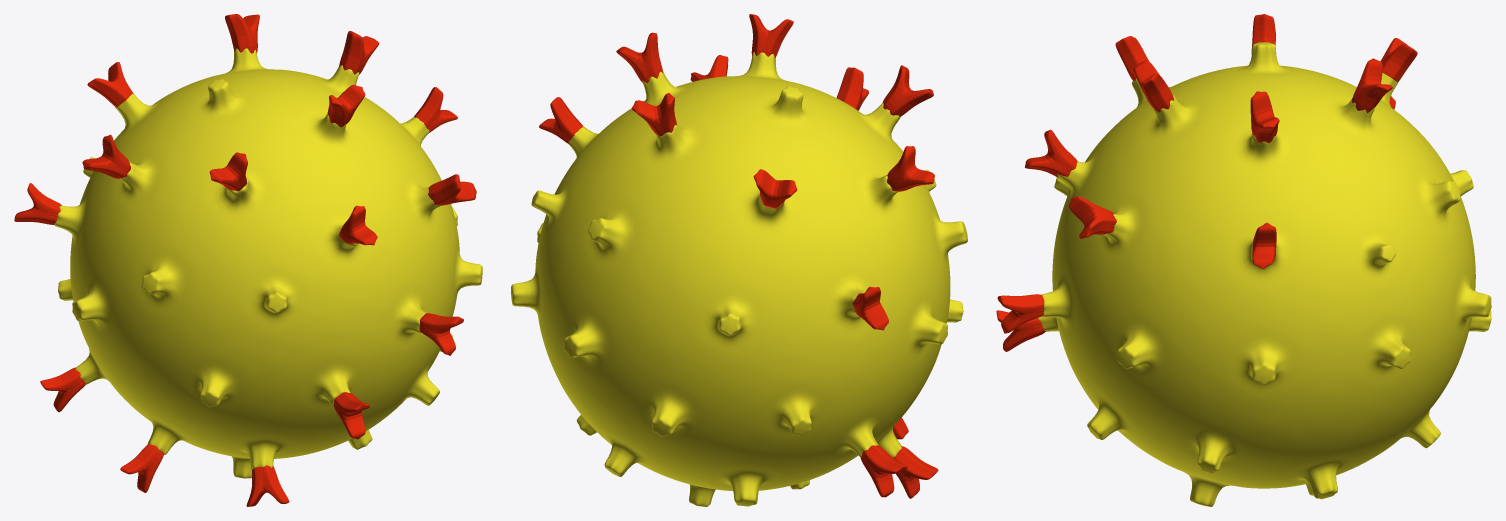
File: linfoncitoKillerFase1Final.fbx
3 renders of one model, left to right at view 1: azimuth 30°, elevation 25°; view 2: azimuth 150°, elevation 25°; view 3: azimuth 270°, elevation 25°, orthographic. The views are drawn at different scales.
Visible parts, largest first — view 1: Balas; view 2: Balas; view 3: Balas.
Part boxes in pixels (x1=…): Balas: x1=14, y1=14, x2=482, y2=506; Balas: x1=511, y1=14, x2=967, y2=506; Balas: x1=996, y1=14, x2=1491, y2=506.
Bounding box in the file's own units: 2.23 × 2.25 × 2.29.
